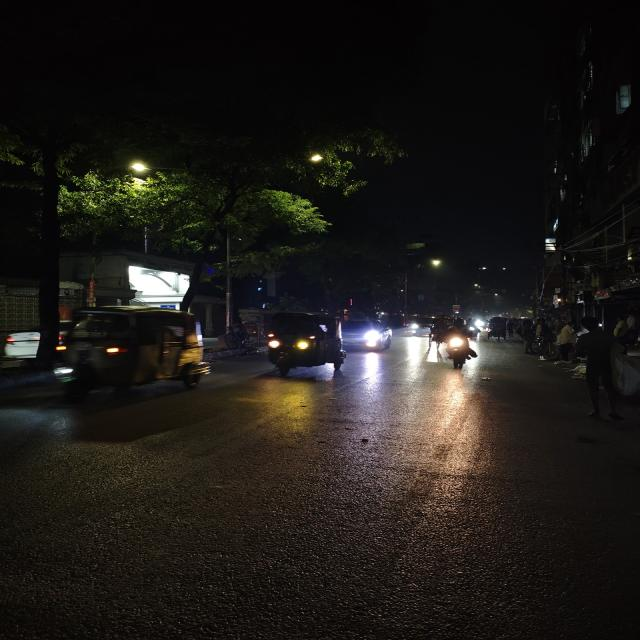car: (348, 318, 393, 358), (405, 314, 435, 338)
cng: (47, 299, 217, 404), (258, 307, 346, 383), (486, 314, 510, 344)
motorcycle: (441, 316, 476, 373)
pedestrian: (572, 316, 636, 420), (609, 308, 640, 358), (552, 319, 577, 367), (534, 316, 559, 364), (516, 315, 540, 355)
